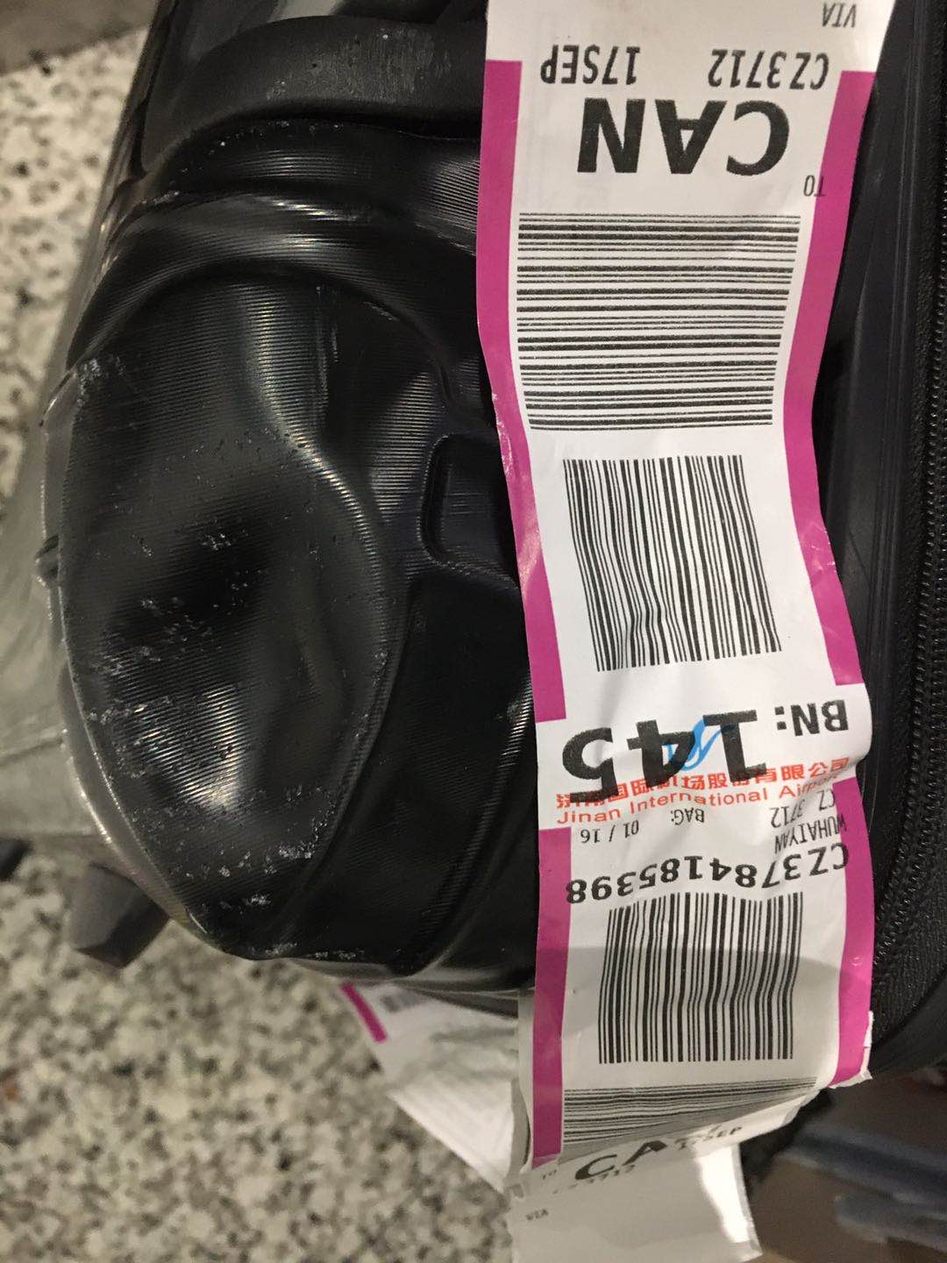rupture: (67, 441, 386, 863)
